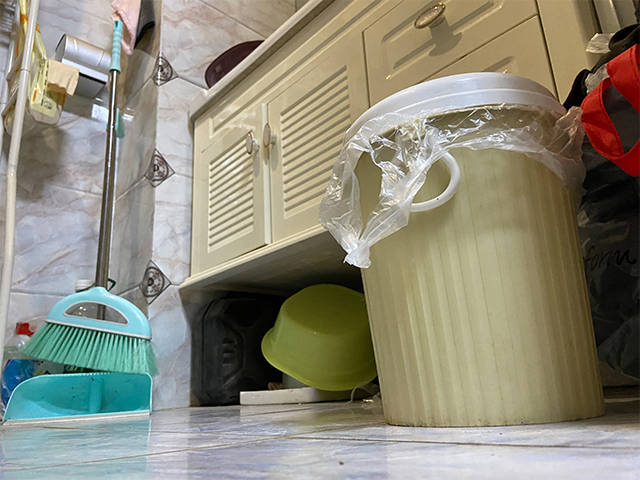trashcan: (334, 72, 605, 428)
